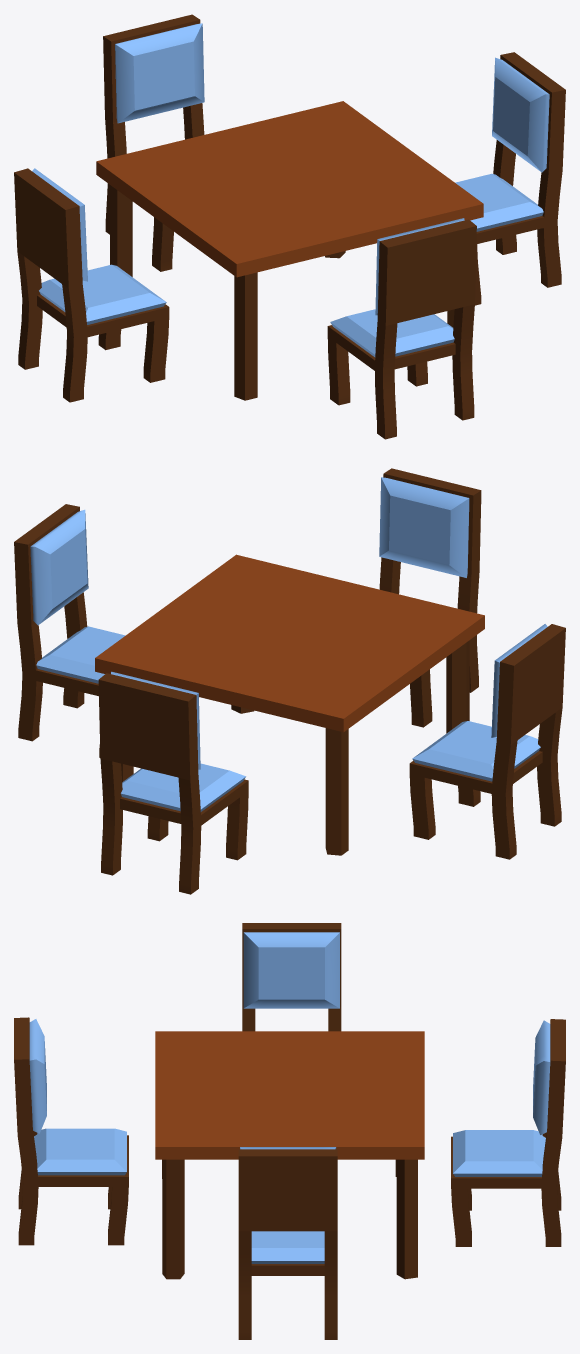
The model's file is g_o_diningtable.fbx.
The picture shows the model from 3 angles, top to bottom: view 1: azimuth 30°, elevation 25°; view 2: azimuth 150°, elevation 25°; view 3: azimuth 270°, elevation 25°; orthographic projection. The views are drawn at different scales.
Parts seen in each view (by area): view 1: Chair_4; view 2: Chair_4; view 3: Chair_4.
Boxes of the visible parts, x1,y1,x2,y2 form: Chair_4: [14, 14, 565, 439]; Chair_4: [14, 468, 565, 894]; Chair_4: [14, 923, 565, 1339].
Size of the model in its own units: 266 by 99.11 by 266.
